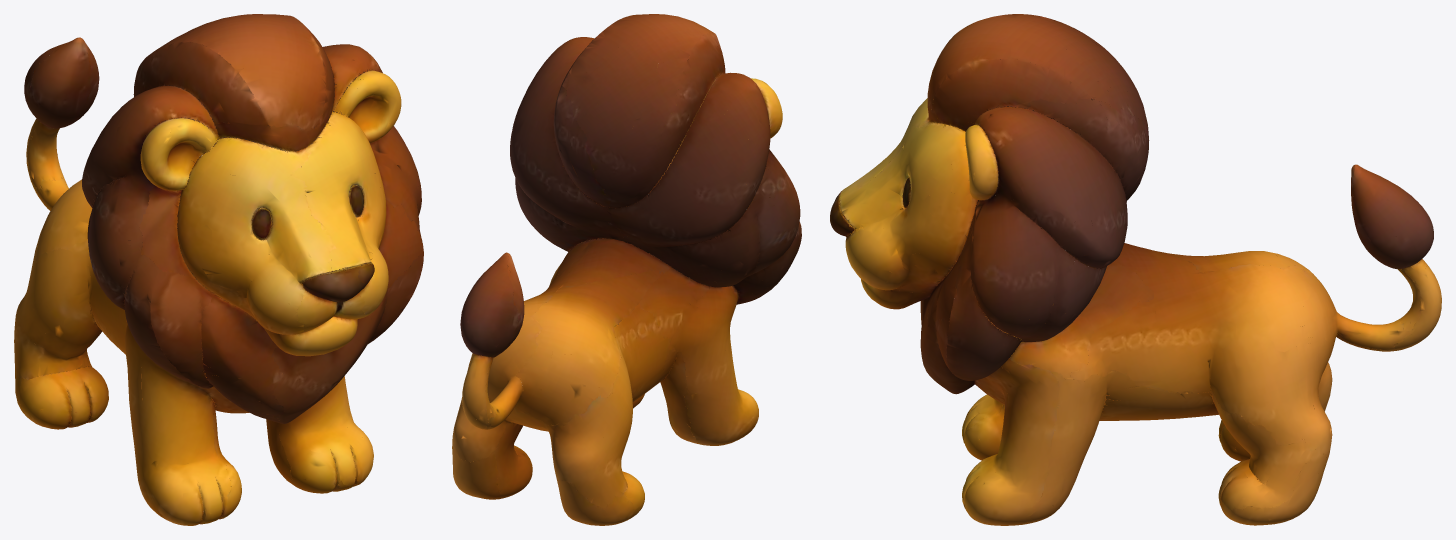
File: lion_optimized.glb
3 views of the same model, side by side, from view 1: azimuth 30°, elevation 25°; view 2: azimuth 150°, elevation 25°; view 3: azimuth 270°, elevation 25° (orthographic). The views are drawn at different scales.
Visible parts, largest first — view 1: lion; view 2: lion; view 3: lion.
Part boxes in pixels (x1=…): lion: x1=14, y1=14, x2=423, y2=525; lion: x1=452, y1=14, x2=801, y2=525; lion: x1=830, y1=14, x2=1441, y2=525.
Size of the model in its own units: 1.04 by 1.47 by 1.78.
1 material, 1 textured.
